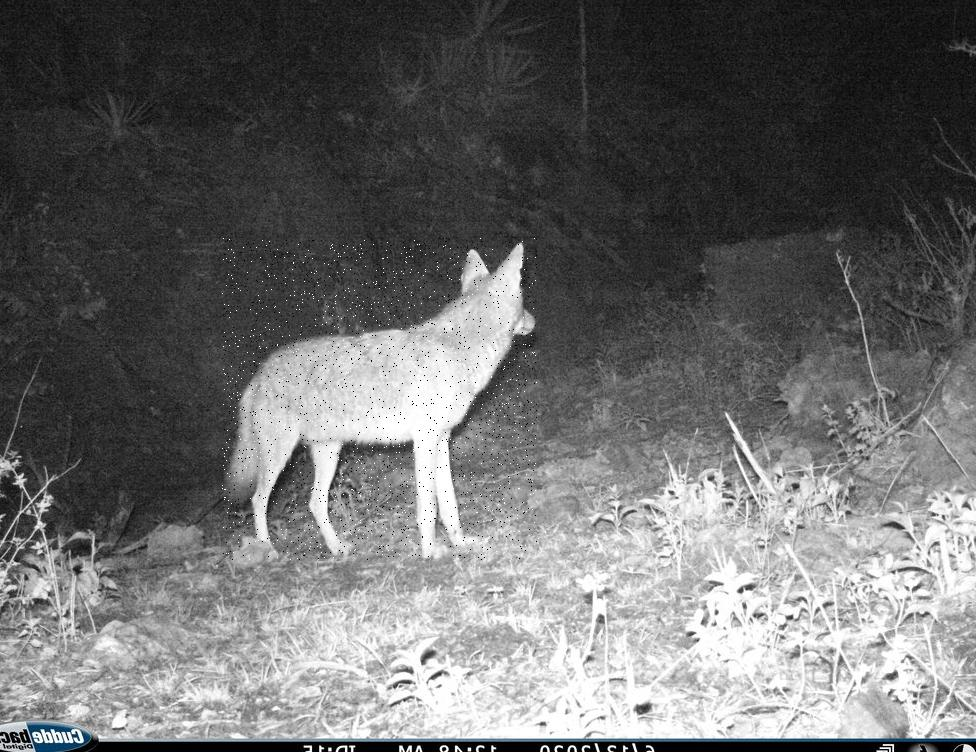Coyote: (221, 239, 536, 561)
